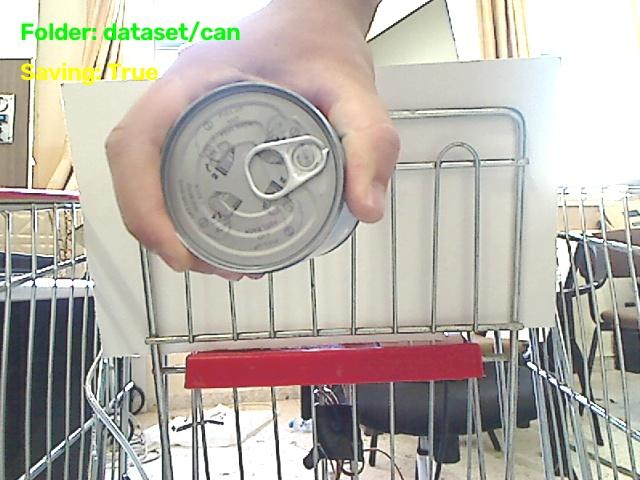can: (161, 83, 356, 272)
